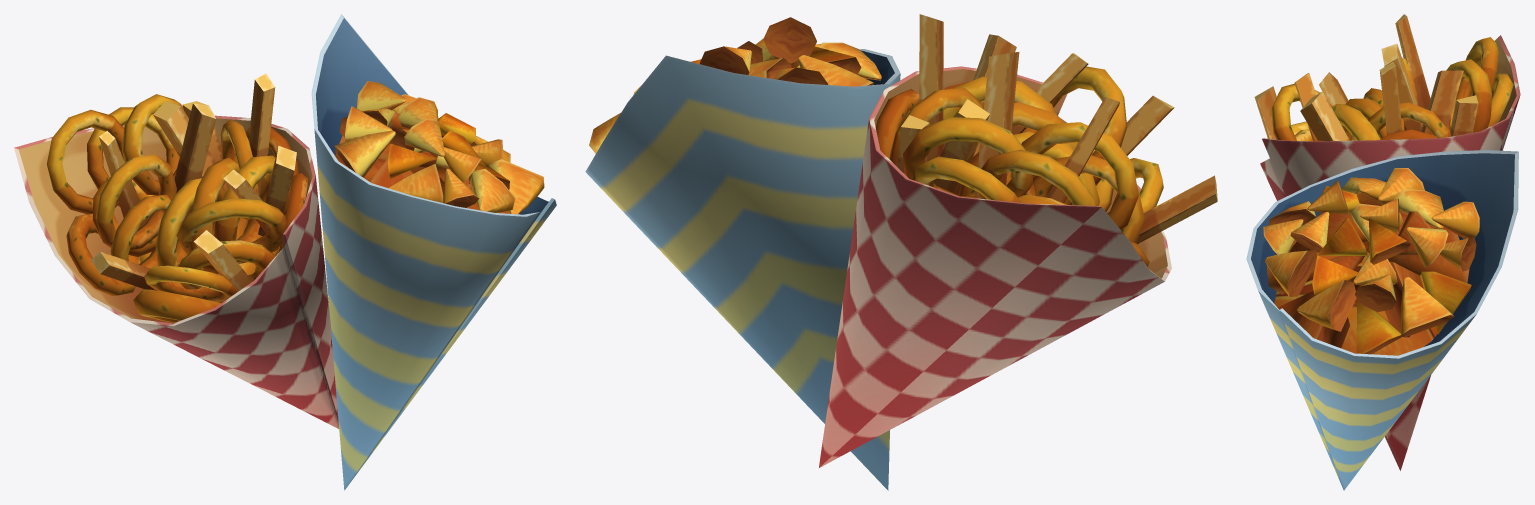
File: SkillObj_Chevreuse_Show_Snack3_Model.glb
The picture shows the model from 3 angles, left to right: view 1: azimuth 30°, elevation 25°; view 2: azimuth 150°, elevation 25°; view 3: azimuth 270°, elevation 25°; orthographic projection. The views are drawn at different scales.
Parts seen in each view (by area): view 1: SkillObj_Chevreuse_Show_Snack3_LOD0; view 2: SkillObj_Chevreuse_Show_Snack3_LOD0; view 3: SkillObj_Chevreuse_Show_Snack3_LOD0.
Part boxes in pixels (left/top/right/bottom): SkillObj_Chevreuse_Show_Snack3_LOD0: left=14, top=14, right=556, bottom=490; SkillObj_Chevreuse_Show_Snack3_LOD0: left=585, top=14, right=1217, bottom=490; SkillObj_Chevreuse_Show_Snack3_LOD0: left=1246, top=14, right=1520, bottom=490.
Bounding box in the file's own units: 0.3809 × 0.3244 × 0.2011.
Materials: 1 (1 with a texture image).
